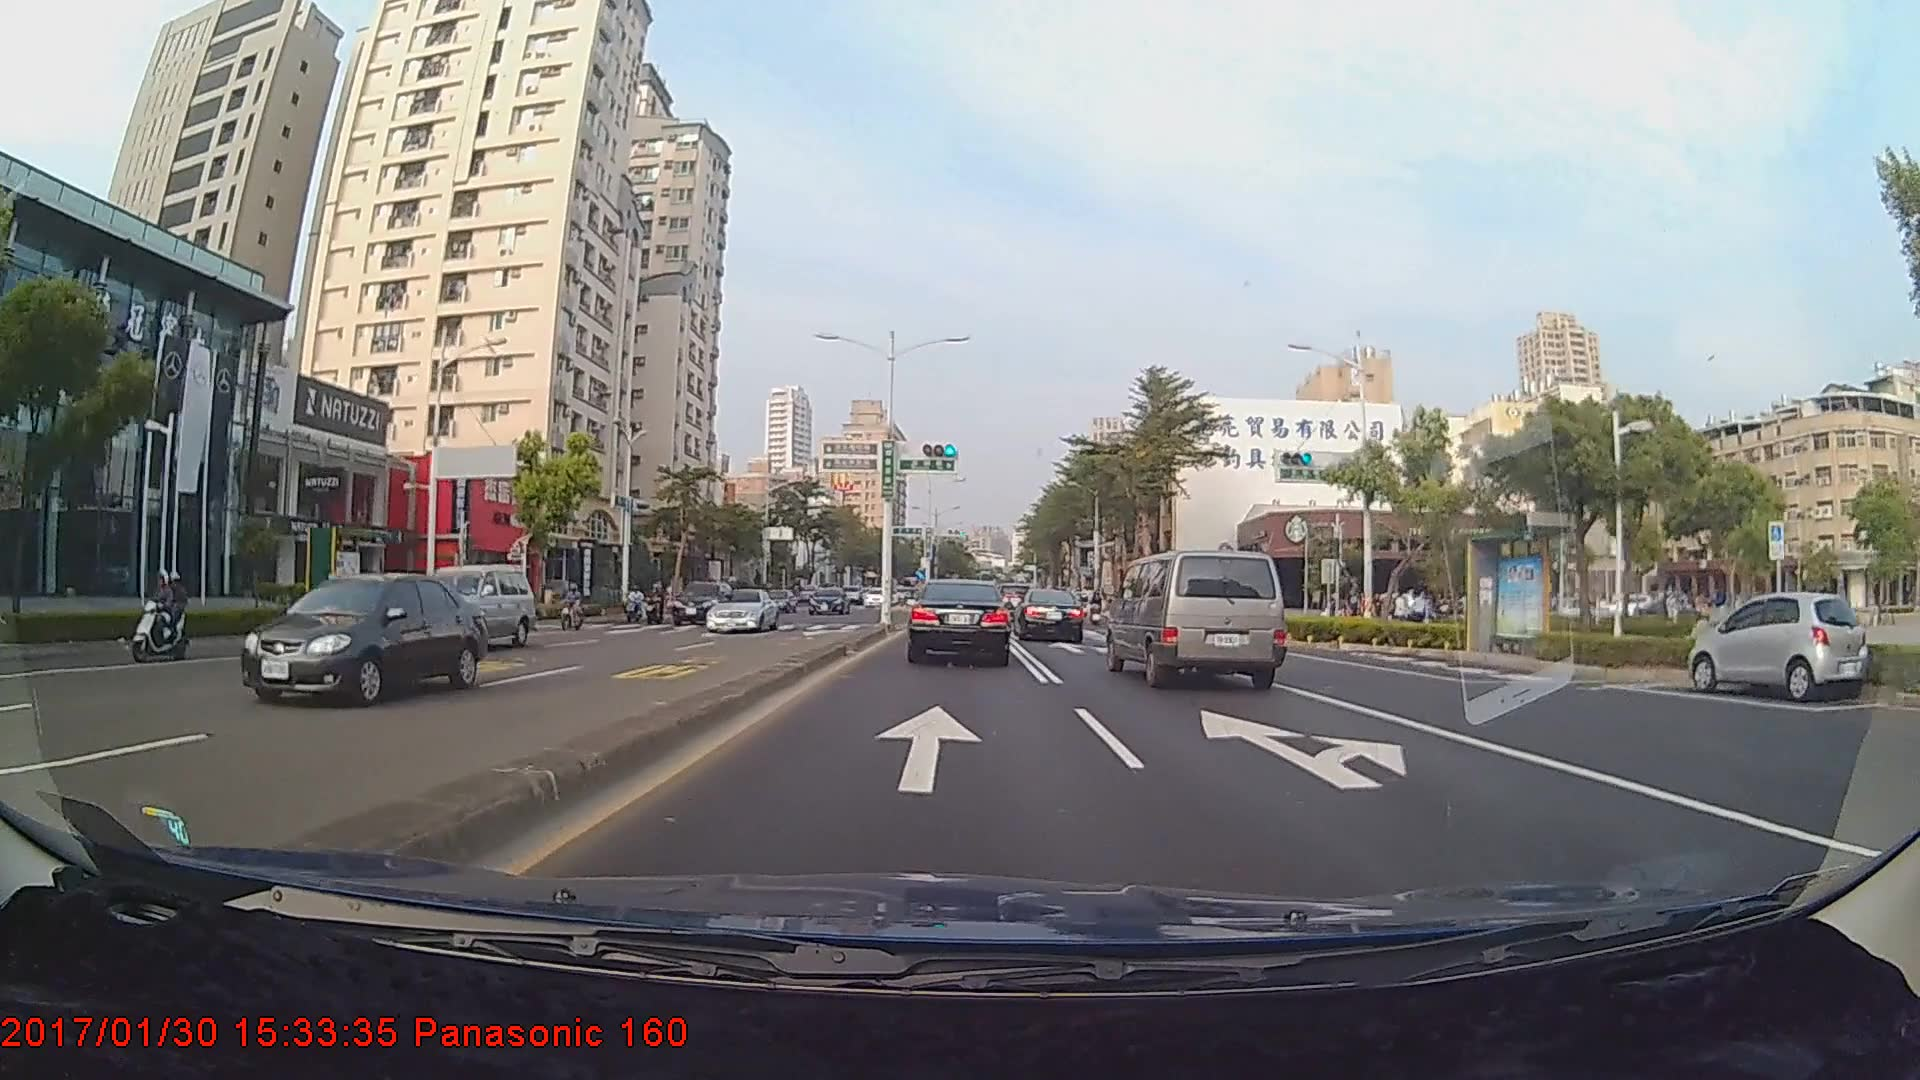rider: (125, 564, 195, 669), (556, 578, 591, 630), (641, 579, 669, 628), (622, 586, 647, 627)
vehicle: (235, 569, 487, 709), (1107, 545, 1287, 692), (1691, 589, 1870, 702), (386, 561, 535, 645), (908, 578, 1010, 665), (1012, 588, 1085, 641), (703, 585, 777, 631), (669, 577, 734, 625), (808, 585, 850, 617)
